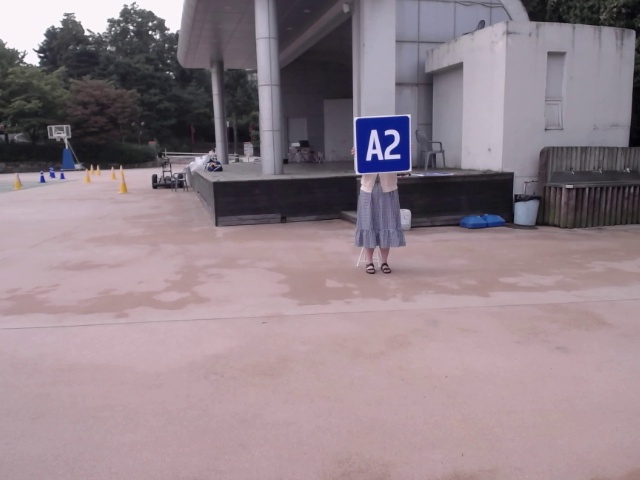delivery_a2: (354, 115, 411, 174)
